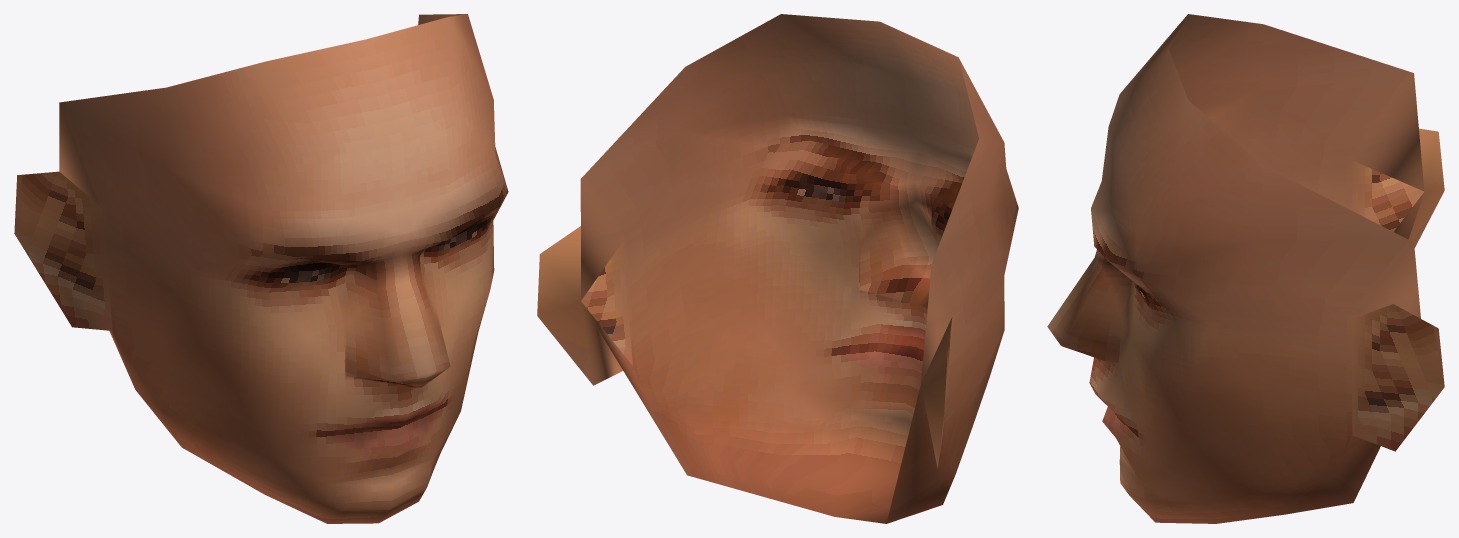
The picture shows the model from 3 angles, left to right: view 1: azimuth 30°, elevation 25°; view 2: azimuth 150°, elevation 25°; view 3: azimuth 270°, elevation 25°; orthographic projection. The views are drawn at different scales.
Parts seen in each view (by area): view 1: editpl_m-0000-100, editpl_m-0000-99; view 2: editpl_m-0000-100, editpl_m-0000-99; view 3: editpl_m-0000-100, editpl_m-0000-99.
Boxes of the visible parts, bbox=[...] form: editpl_m-0000-100: bbox=[14, 14, 508, 456]; editpl_m-0000-99: bbox=[112, 331, 460, 523]; editpl_m-0000-100: bbox=[537, 14, 1018, 523]; editpl_m-0000-99: bbox=[633, 257, 988, 523]; editpl_m-0000-100: bbox=[1047, 14, 1444, 502]; editpl_m-0000-99: bbox=[1062, 346, 1352, 523].
Bounding box in the file's own units: 17.18 × 18.64 × 14.66.
Materials: 1 (1 with a texture image).
